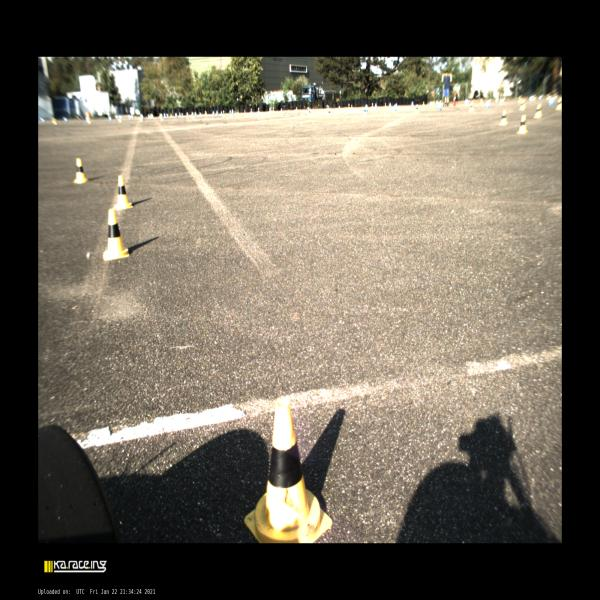yellow_cone: (245, 397, 332, 544), (103, 208, 129, 260), (114, 175, 133, 210), (73, 158, 87, 184), (516, 116, 527, 133), (533, 103, 542, 118), (499, 110, 507, 126)
